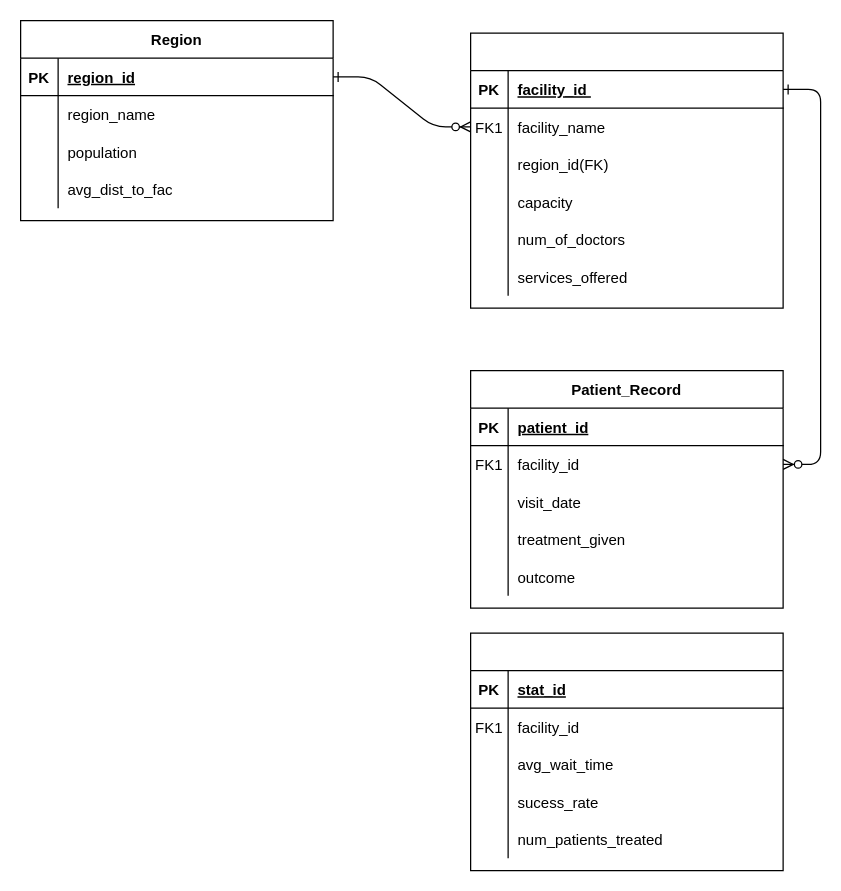
This 841x891 diagram has some shape labels left out. The box of each missing label's shape, as (x1, y1, x2, y2) in pixels:
Healthcare_Facility: (469, 32, 783, 308)
Treatment-Statistics: (469, 632, 783, 871)
